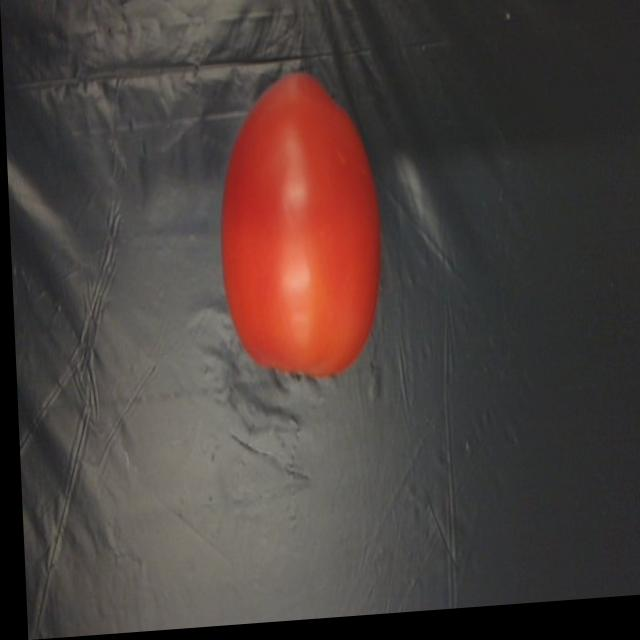kirmizi: (202, 64, 389, 409)
